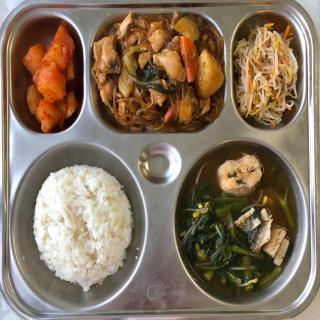Nasi: (34, 162, 135, 289)
